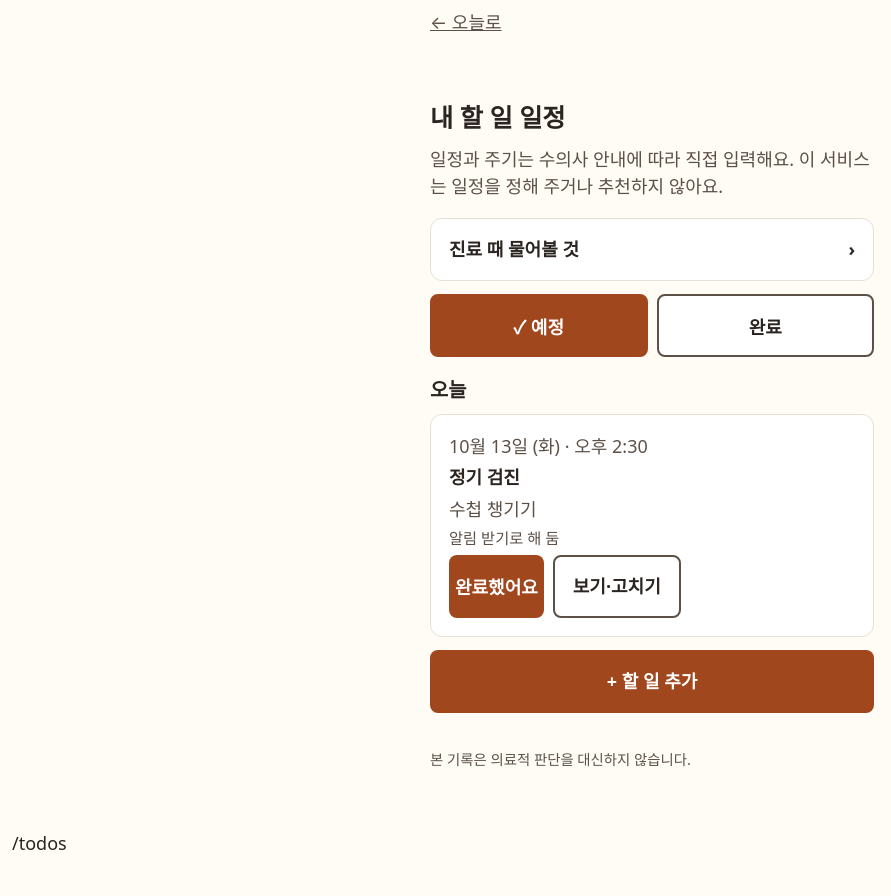
Test case: 할 일 목록 — 예정 › 완료 체크: 줄이 제자리에서 접히고 [되돌리기]로 원래 줄이 돌아온다
The image size is (891, 896).
Click the button with aria-label "완료했어요, 정기 검진".
click(496, 586)  # box [449,555,544,618]
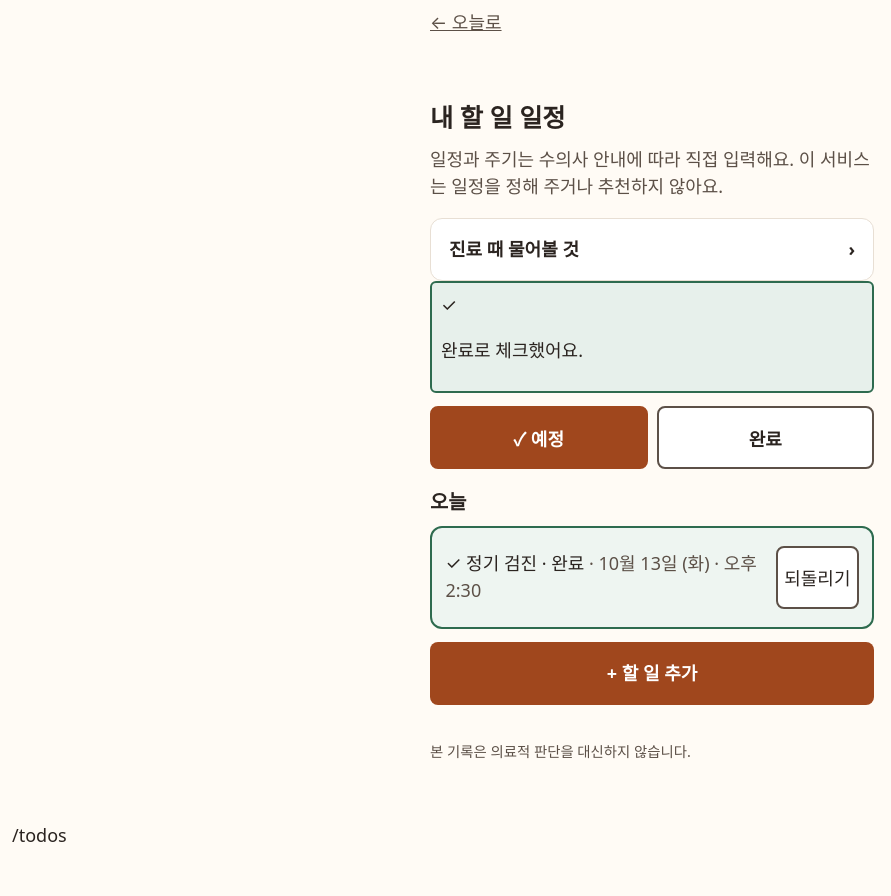
Result: the button with aria-label "정기 검진 완료 체크 되돌리기" is shown
Result: the message reads "완료로 체크했어요." at [441,338,583,362]
Click the button with aria-label "정기 검진 완료 체크 되돌리기".
click(817, 578)  # box [776,546,859,609]
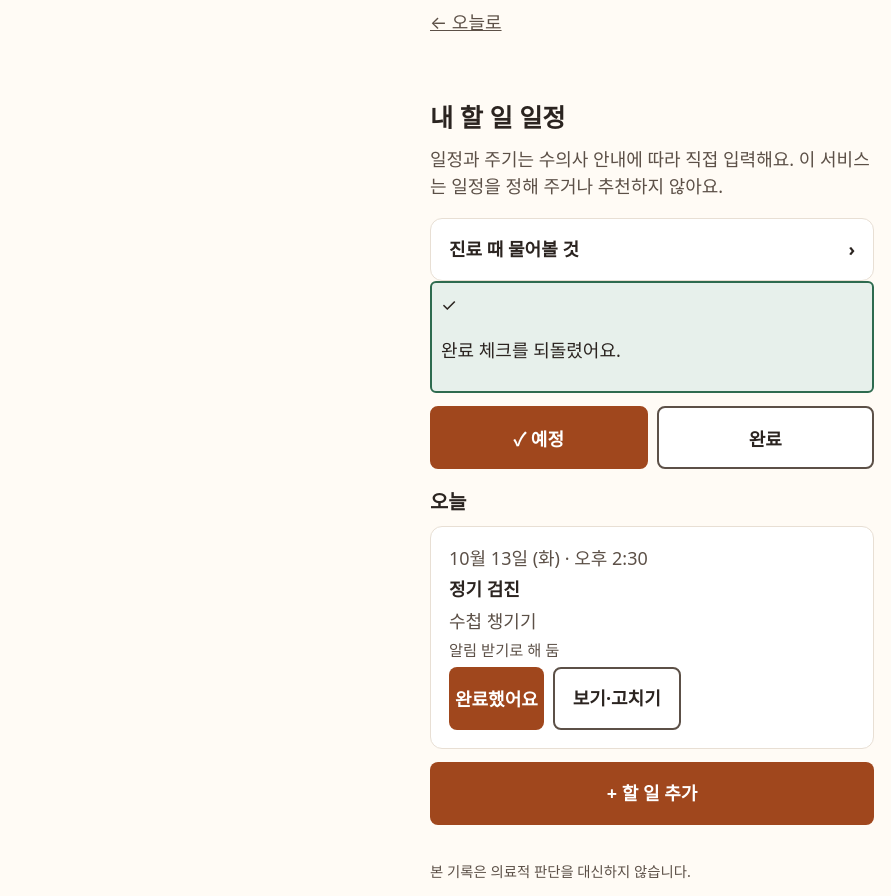
Result: the button with aria-label "완료했어요, 정기 검진" is shown at [449,667,544,730]
Result: the message reads "완료 체크를 되돌렸어요." at [441,338,621,362]
